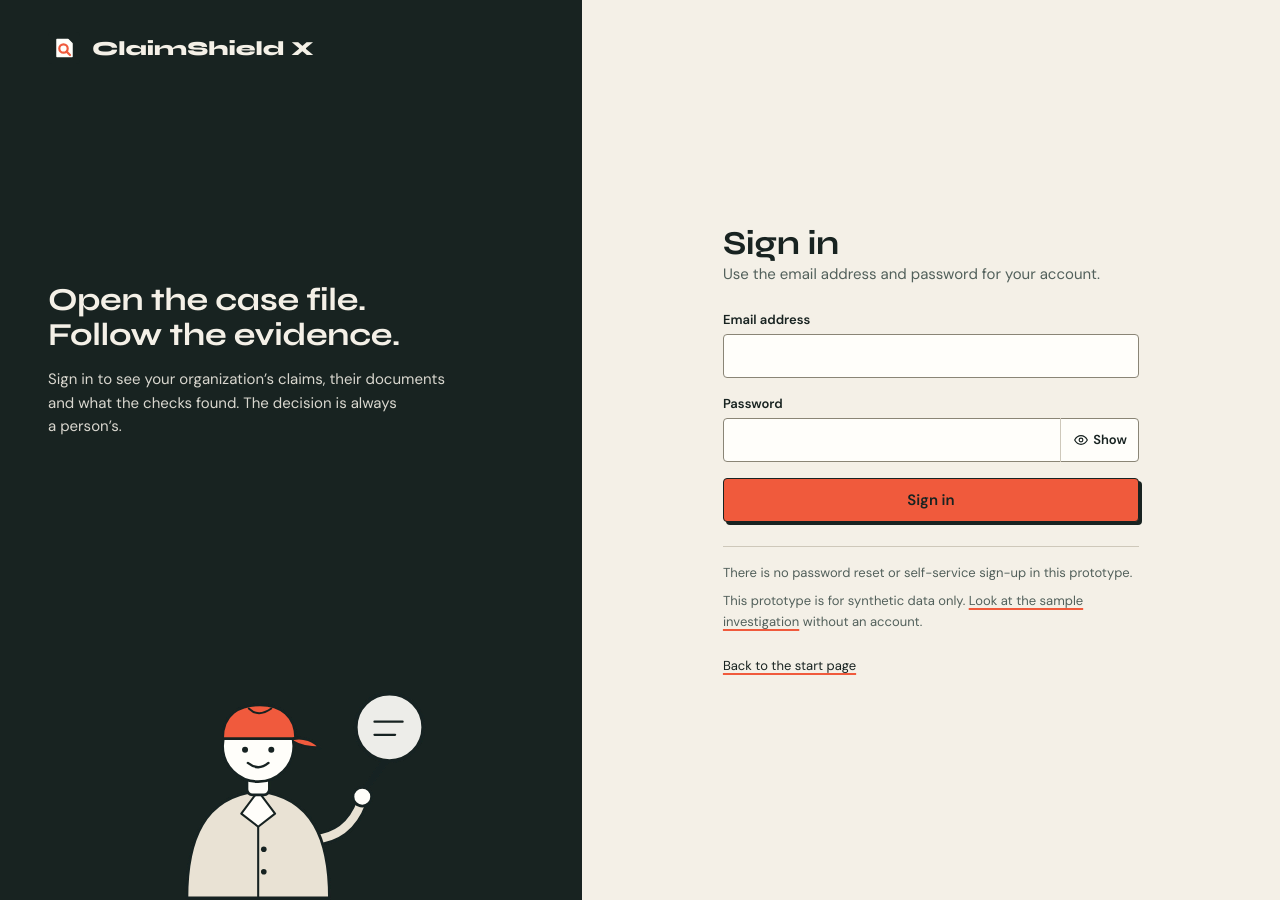
Test: LoginPage form › reveals and hides the password with a labelled toggle
Type "hunter2-hunter2" into the password field labelled "Password". click: (931, 440)
box: [723,418,1139,462]
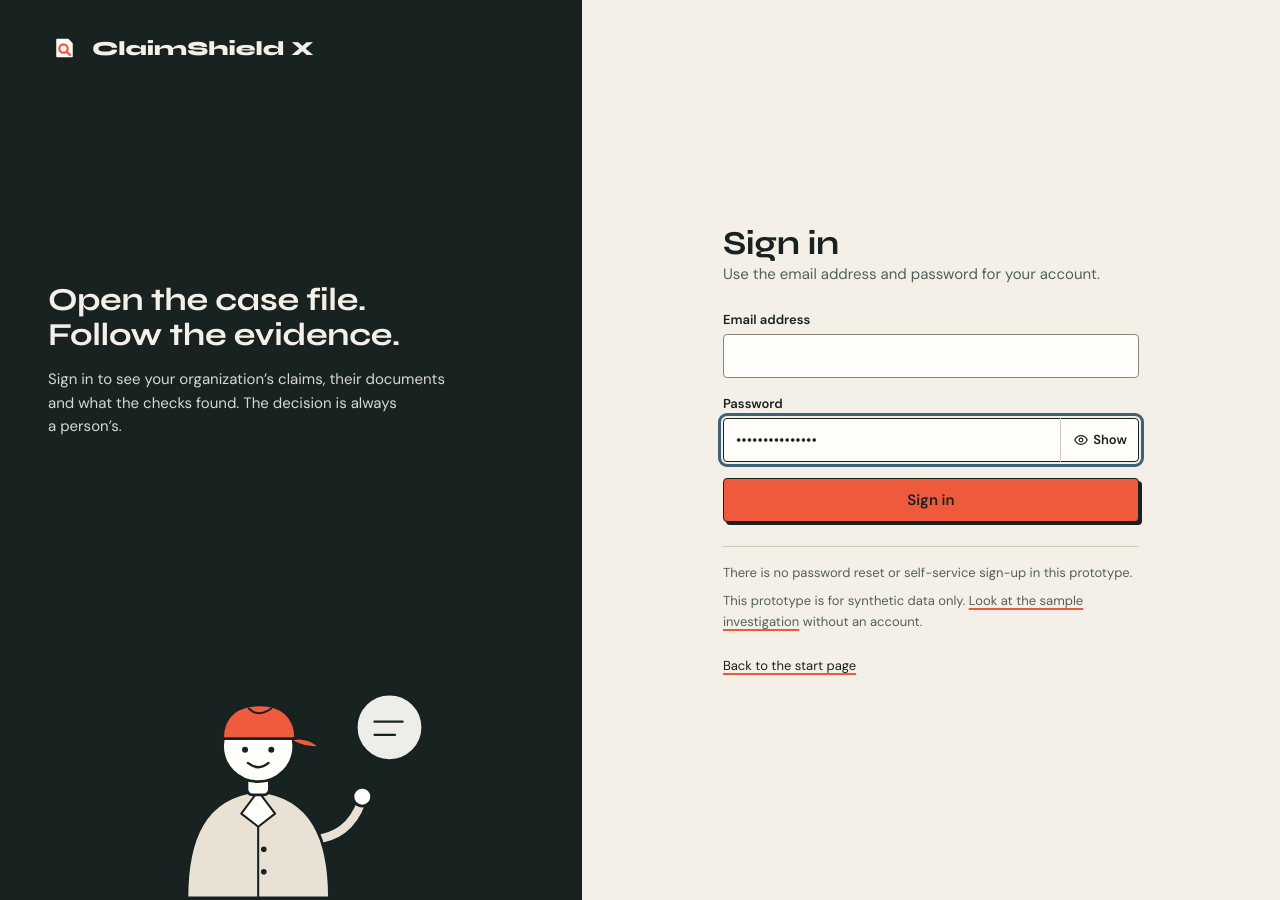
Click the button with aria-label "Show password". click: (1100, 440)
box: [1060,418,1139,462]
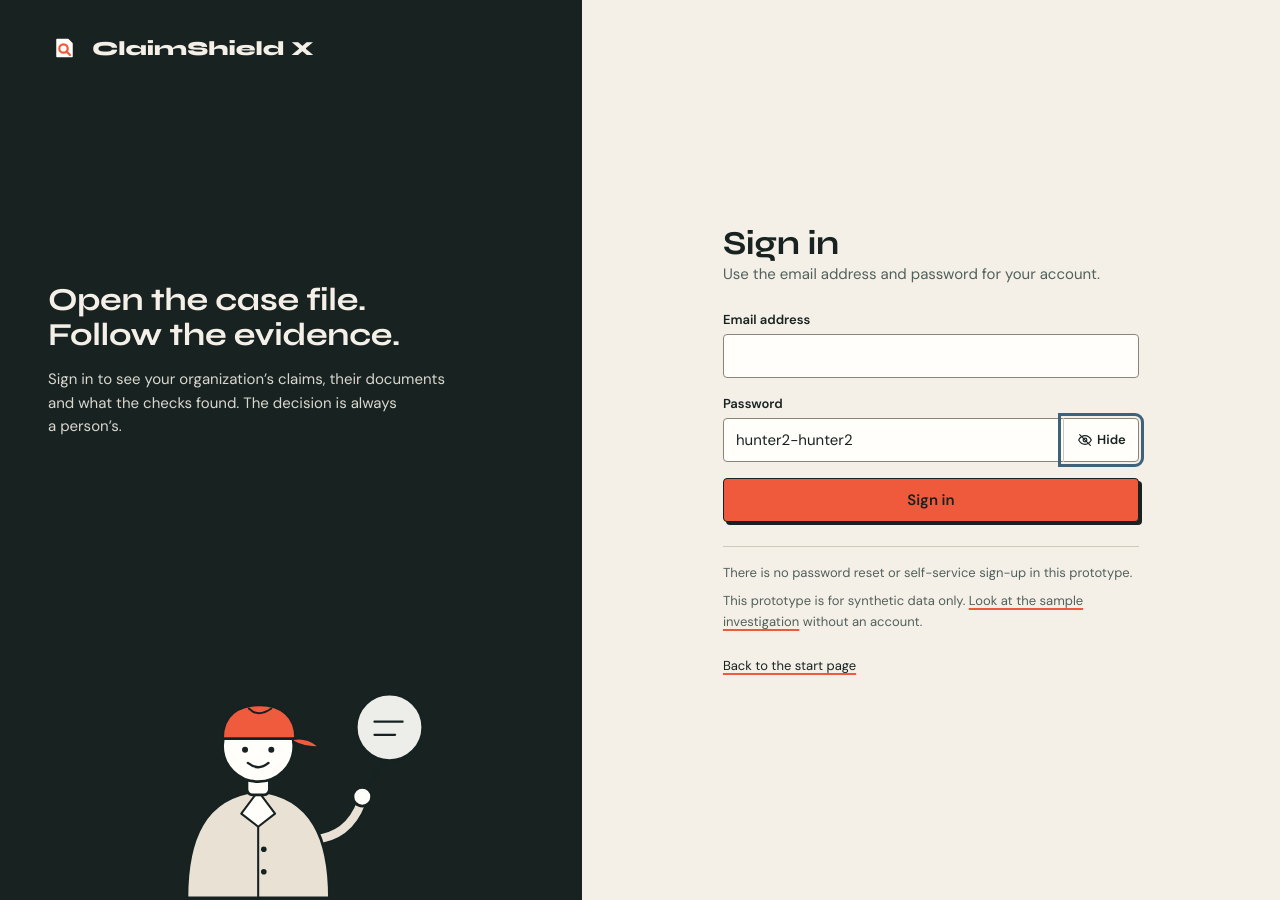
Result: the field labelled "Password" shows its text at [723,418,1139,462]
Result: the button with aria-label "Hide password" is shown
Click the button with aria-label "Hide password". click: (1101, 440)
box: [1063,418,1139,462]
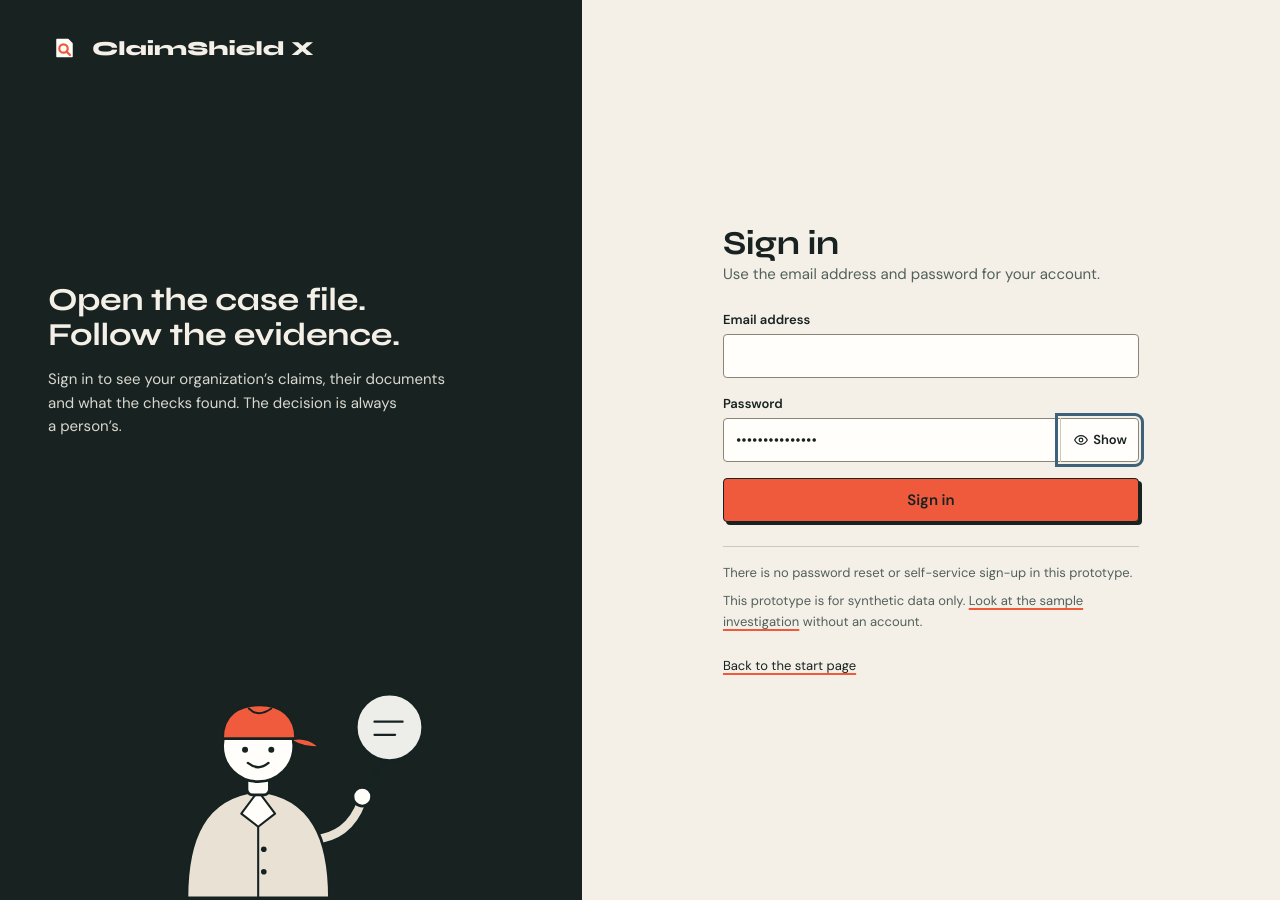
Result: the password field labelled "Password" hides its text at [723,418,1139,462]
